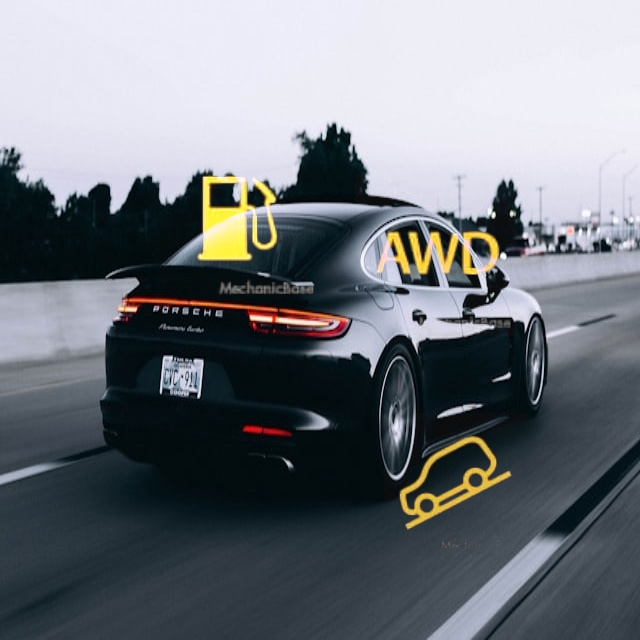symbol: (155, 137, 320, 302), (355, 174, 517, 336), (384, 413, 528, 557)
